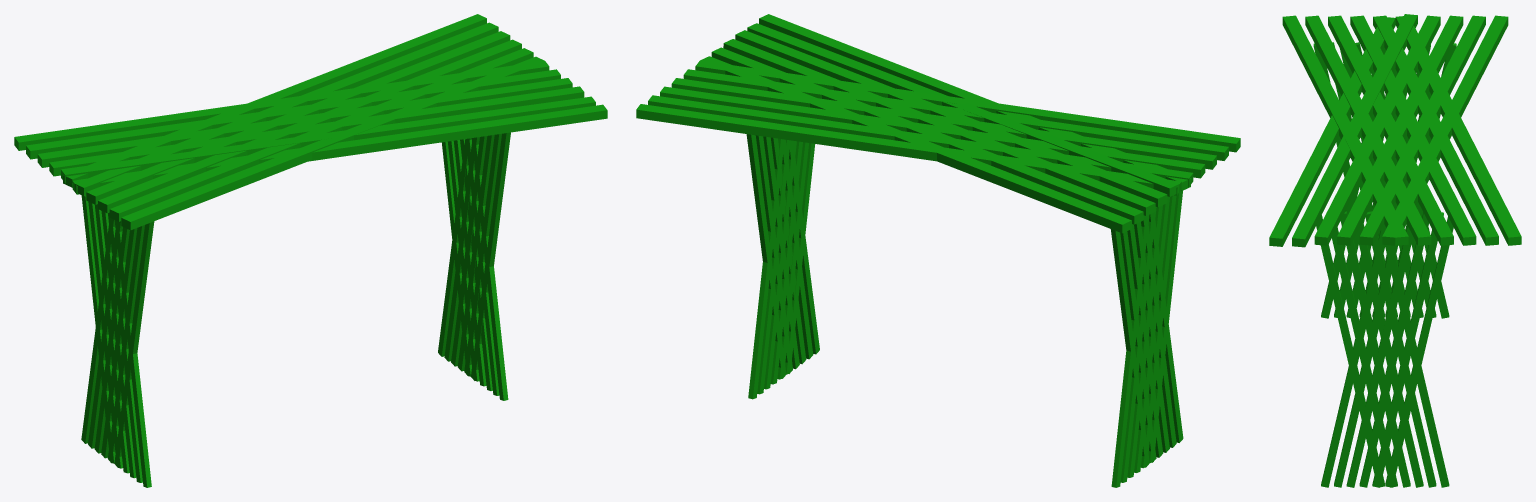
The model's file is propuesta1-2.obj.
3 renders of one model, left to right at view 1: azimuth 30°, elevation 25°; view 2: azimuth 150°, elevation 25°; view 3: azimuth 270°, elevation 25°, orthographic. The views are drawn at different scales.
Visible parts, largest first — view 1: Cubo.034_Cubo.037; view 2: Cubo.034_Cubo.037; view 3: Cubo.034_Cubo.037.
Part boxes in pixels (x1=…): Cubo.034_Cubo.037: x1=14, y1=14, x2=607, y2=487; Cubo.034_Cubo.037: x1=636, y1=14, x2=1240, y2=487; Cubo.034_Cubo.037: x1=1269, y1=14, x2=1521, y2=487.
Bounding box in the file's own units: 12.32 × 7.29 × 5.83.
